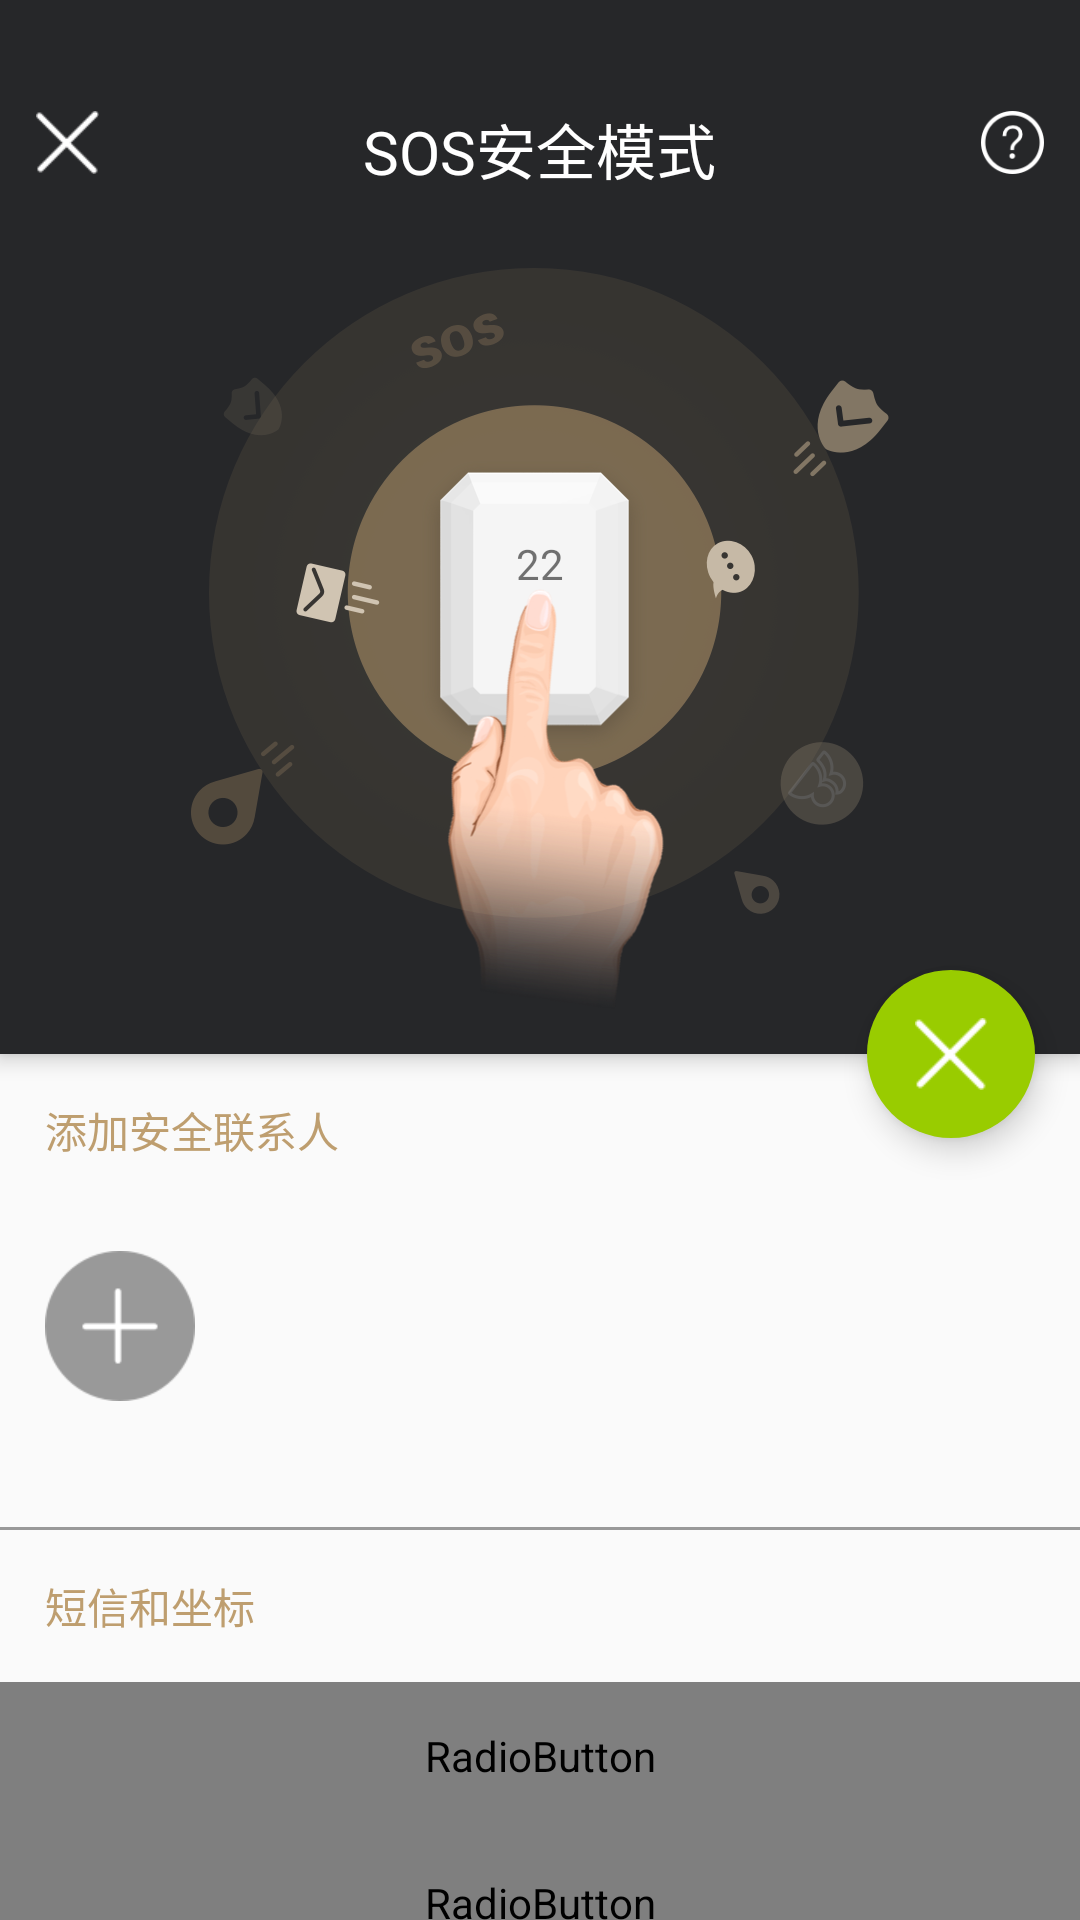

Screen size 1080 × 1920. Icon name, then its center in pixels as point (x, y):
add: point (120, 1326)
question: point (1012, 142)
